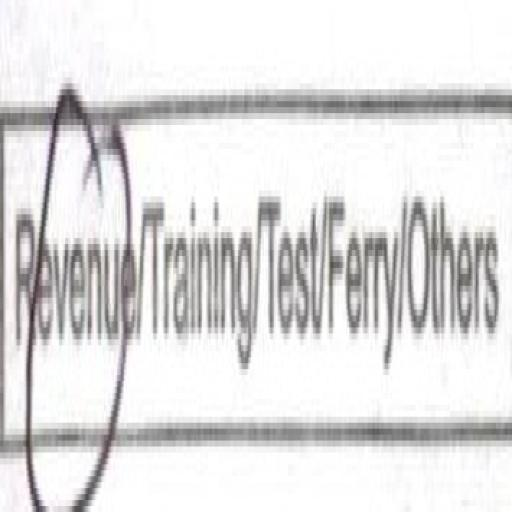check: (2, 54, 139, 512)
